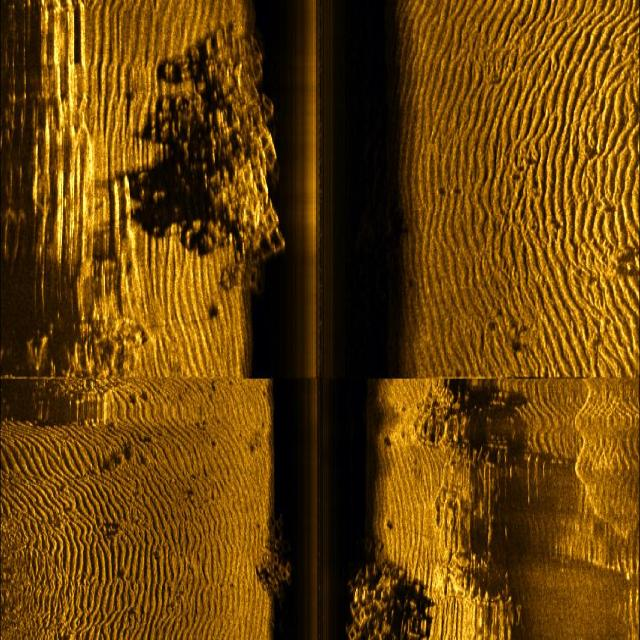artificial reef: (174, 30, 288, 285), (332, 526, 432, 640), (251, 493, 294, 614)
